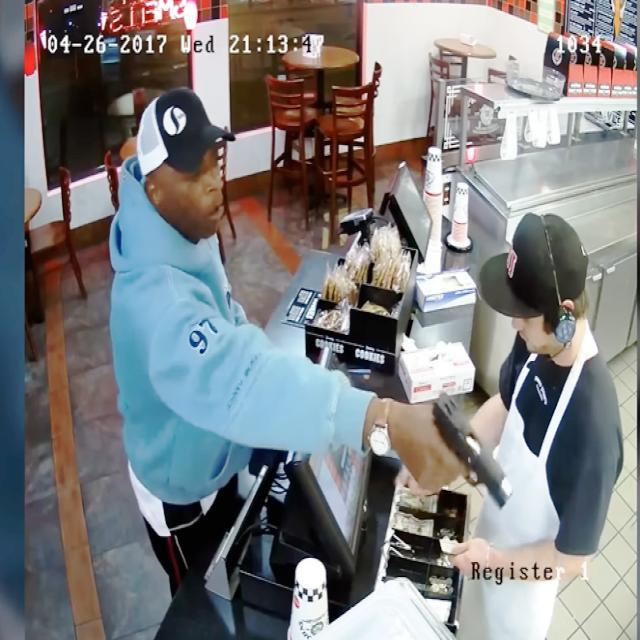Gun: (412, 388, 512, 508)
